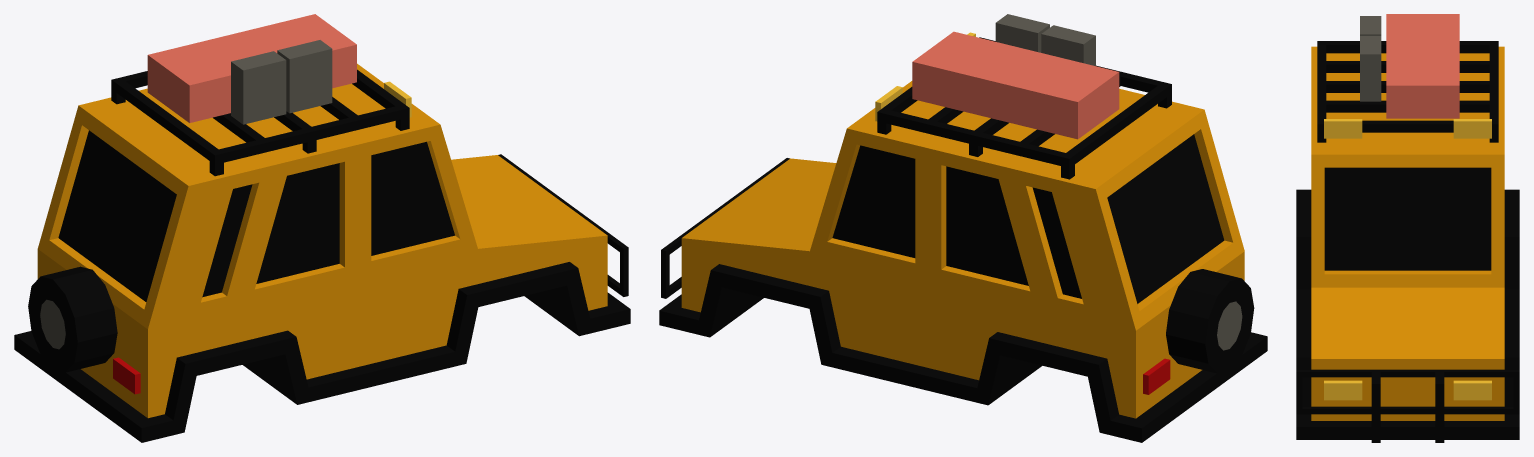
File: CityOffRoadCar_01.fbx
3 renders of one model, left to right at view 1: azimuth 30°, elevation 25°; view 2: azimuth 150°, elevation 25°; view 3: azimuth 270°, elevation 25°, orthographic. The views are drawn at different scales.
Visible parts, largest first — view 1: CityOffRoadCar_01; view 2: CityOffRoadCar_01; view 3: CityOffRoadCar_01.
Boxes of the visible parts, x1=… form: CityOffRoadCar_01: x1=14, y1=14, x2=630, y2=442; CityOffRoadCar_01: x1=659, y1=14, x2=1267, y2=442; CityOffRoadCar_01: x1=1296, y1=14, x2=1519, y2=442.
Size of the model in its own units: 0.5791 by 0.3317 by 0.2453.
